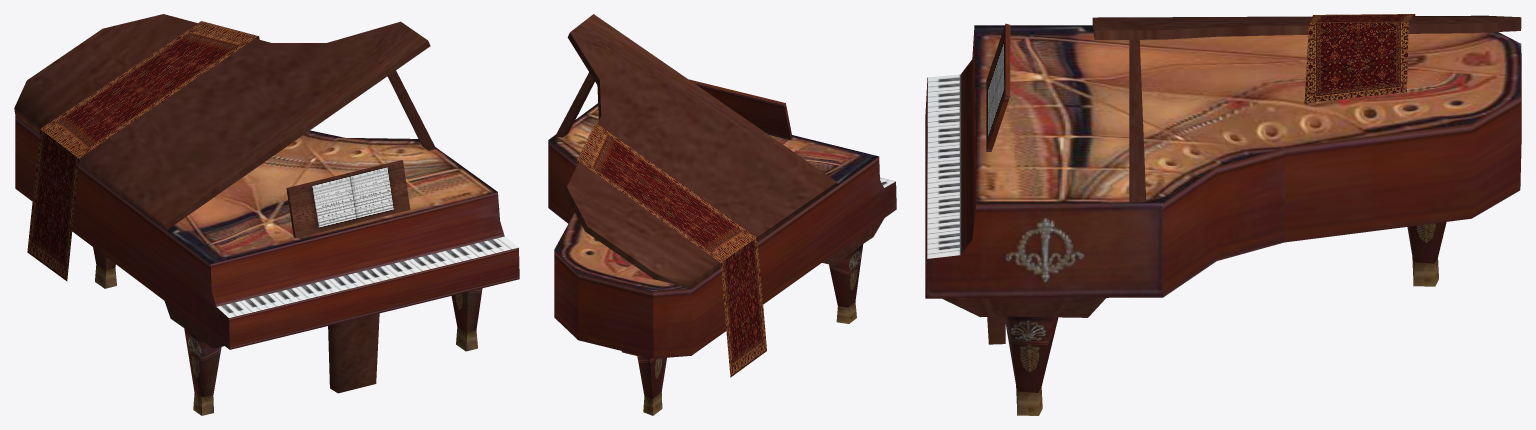
Rendered from piano.obj.
3 renders of one model, left to right at view 1: azimuth 30°, elevation 25°; view 2: azimuth 150°, elevation 25°; view 3: azimuth 270°, elevation 25°, orthographic. The views are drawn at different scales.
Parts seen in each view (by area): view 1: br_nimrod5; view 2: br_nimrod5; view 3: br_nimrod5.
Part boxes in pixels (bbox=[...]): br_nimrod5: bbox=[14, 14, 519, 415]; br_nimrod5: bbox=[548, 14, 896, 415]; br_nimrod5: bbox=[925, 14, 1521, 415].
Size of the model in its own units: 84.67 by 78.34 by 113.
Materials: 1 (1 with a texture image).
